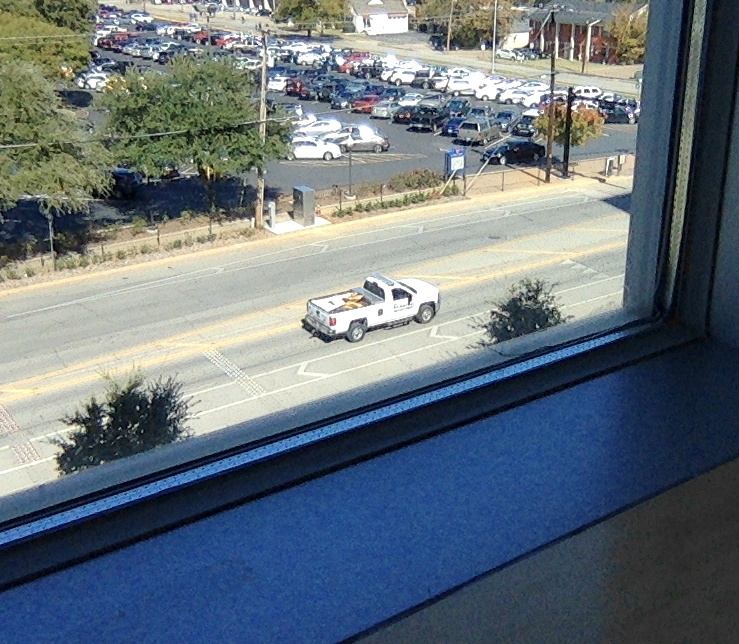car: (300, 300, 439, 344)
